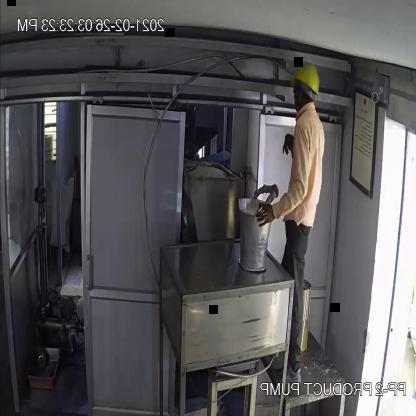helmet: (290, 60, 322, 97)
